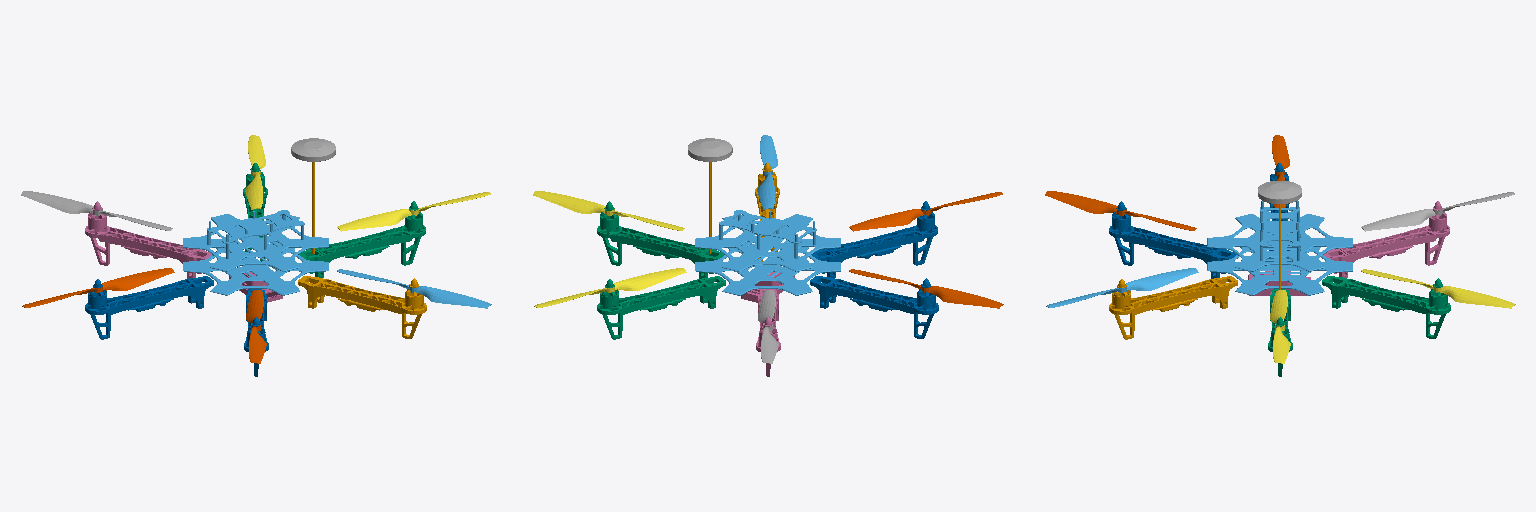
The robot description file, URDF, robot "F550":
<?xml version="1.0" ?>
<!-- =================================================================================== -->
<!-- |    This document was autogenerated by xacro from [local-path]/catkin_ws/src/px4_simulation_stack/Tools/sitl_gazebo/models/F550/xacro/F550.xacro | -->
<!-- |    EDITING THIS FILE BY HAND IS NOT RECOMMENDED                                 | -->
<!-- =================================================================================== -->
<robot name="F550" xmlns:xacro="http://www.ros.org/wiki/xacro">
  <link name="base_link"/>
  <joint name="base_joint" type="fixed">
    <origin rpy="0 0 0" xyz="0 0 0"/>
    <parent link="base_link"/>
    <child link="base_link_inertia"/>
  </joint>
  <!-- base_link -->
  <link name="base_link_inertia">
    <inertial>
      <mass value="1.5"/>
      <!-- [kg] -->
      <origin xyz="0 0 0"/>
      <inertia ixx="0.0213982" ixy="0" ixz="0" iyy="0.021956" iyz="0.000340426" izz="0.0398396"/>
    </inertial>
    <visual>
      <origin rpy="0 0 0" xyz="0 0 0"/>
      <geometry>
        <mesh filename="package://F550/meshes/base_link.STL" scale="1 1 1"/>
      </geometry>
    </visual>
    <collision>
      <origin rpy="0 0 0" xyz="0 0 0"/>
      <geometry>
        <cylinder length="0.13" radius="0.295"/>
      </geometry>
    </collision>
  </link>
  <gazebo>
    <plugin filename="libgazebo_multirotor_base_plugin.so" name="rosbag">
      <robotNamespace></robotNamespace>
      <linkName>base_link</linkName>
      <rotorVelocitySlowdownSim>10</rotorVelocitySlowdownSim>
    </plugin>
  </gazebo>
  <gazebo reference="base_link">
    <material>Gazebo/Black</material>
    <collision name="base_link_inertia_collision">
      <surface>
        <contact>
          <ode>
            <min_depth>0.001</min_depth>
            <max_vel>0.0</max_vel>
          </ode>
        </contact>
        <friction>
          <ode/>
        </friction>
      </surface>
    </collision>
  </gazebo>
  <!-- wing joint -->
  <joint name="wing_0_joint" type="fixed">
    <origin rpy="0 0 0" xyz="0.1875 0 -0.0135"/>
    <axis xyz="0 0 0"/>
    <parent link="base_link"/>
    <child link="wing_0"/>
  </joint>
  <!-- wing link -->
  <link name="wing_0">
    <inertial>
      <origin rpy="0 0 0" xyz="0.033233 0.00054387 0.012567"/>
      <mass value="0.11819"/>
      <inertia ixx="2.1906E-05" ixy="7.962E-07" ixz="-6.9968E-05" iyy="0.0002878" iyz="2.0567E-07" izz="0.0002659"/>
    </inertial>
    <visual>
      <geometry>
        <mesh filename="package://F550/meshes/wing.STL" scale="1 1 1"/>
      </geometry>
    </visual>
  </link>
  <gazebo reference="wing_0">
    <material>Gazebo/White</material>
  </gazebo>
  <!-- rotor joint -->
  <joint name="rotor_0_joint" type="continuous">
    <origin rpy="0 0 0" xyz="0.0865 0.0005 0.033"/>
    <axis xyz="0 0 1"/>
    <parent link="wing_0"/>
    <child link="rotor_0"/>
  </joint>
  <!-- rotor link -->
  <link name="rotor_0">
    <inertial>
      <origin rpy="0 0 0" xyz="0 0 0.0078525"/>
      <mass value="0.0091837"/>
      <inertia ixx="3.009E-07" ixy="1.5042E-07" ixz="0" iyy="3.4024E-05" iyz="0" izz="3.4239E-05"/>
    </inertial>
    <visual>
      <geometry>
        <mesh filename="package://F550/meshes/cw_prop.STL" scale="1 1 1"/>
      </geometry>
    </visual>
    <collision>
      <geometry>
        <cylinder length="0.03" radius="0.13"/>
      </geometry>
    </collision>
  </link>
  <gazebo>
    <plugin filename="libgazebo_motor_model.so" name="right_motor_model">
      <robotNamespace></robotNamespace>
      <jointName>rotor_0_joint</jointName>
      <linkName>rotor_0</linkName>
      <turningDirection>cw</turningDirection>
      <timeConstantUp>0.0125</timeConstantUp>
      <timeConstantDown>0.025</timeConstantDown>
      <maxRotVelocity>1500</maxRotVelocity>
      <motorConstant>8.54858e-06</motorConstant>
      <momentConstant>0.06</momentConstant>
      <commandSubTopic>/gazebo/command/motor_speed</commandSubTopic>
      <motorNumber>0</motorNumber>
      <rotorDragCoefficient>0.000806428</rotorDragCoefficient>
      <rollingMomentCoefficient>1e-06</rollingMomentCoefficient>
      <motorSpeedPubTopic>/motor_speed/0</motorSpeedPubTopic>
      <rotorVelocitySlowdownSim>10</rotorVelocitySlowdownSim>
    </plugin>
  </gazebo>
  <gazebo reference="rotor_0">
    <material>Gazebo/Black</material>
  </gazebo>
  <!-- wing joint -->
  <joint name="wing_1_joint" type="fixed">
    <origin rpy="0 0 3.14159265359" xyz="-0.1875 0 -0.0135"/>
    <axis xyz="0 0 0"/>
    <parent link="base_link"/>
    <child link="wing_1"/>
  </joint>
  <!-- wing link -->
  <link name="wing_1">
    <inertial>
      <origin rpy="0 0 0" xyz="0.033233 0.00054387 0.012567"/>
      <mass value="0.11819"/>
      <inertia ixx="2.1906E-05" ixy="7.962E-07" ixz="-6.9968E-05" iyy="0.0002878" iyz="2.0567E-07" izz="0.0002659"/>
    </inertial>
    <visual>
      <geometry>
        <mesh filename="package://F550/meshes/wing.STL" scale="1 1 1"/>
      </geometry>
    </visual>
  </link>
  <gazebo reference="wing_1">
    <material>Gazebo/White</material>
  </gazebo>
  <!-- rotor joint -->
  <joint name="rotor_1_joint" type="continuous">
    <origin rpy="0 0 0" xyz="0.0865 0.0005 0.033"/>
    <axis xyz="0 0 1"/>
    <parent link="wing_1"/>
    <child link="rotor_1"/>
  </joint>
  <!-- rotor link -->
  <link name="rotor_1">
    <inertial>
      <origin rpy="0 0 0" xyz="0 0 0.0078525"/>
      <mass value="0.0091837"/>
      <inertia ixx="3.00752E-07" ixy="-1.4455E-07" ixz="0" iyy="3.41061E-05" iyz="0" izz="3.43204E-05"/>
    </inertial>
    <visual>
      <geometry>
        <mesh filename="package://F550/meshes/ccw_prop.STL" scale="1 1 1"/>
      </geometry>
    </visual>
    <collision>
      <geometry>
        <cylinder length="0.03" radius="0.13"/>
      </geometry>
    </collision>
  </link>
  <gazebo>
    <plugin filename="libgazebo_motor_model.so" name="left_motor_model">
      <robotNamespace></robotNamespace>
      <jointName>rotor_1_joint</jointName>
      <linkName>rotor_1</linkName>
      <turningDirection>ccw</turningDirection>
      <timeConstantUp>0.0125</timeConstantUp>
      <timeConstantDown>0.025</timeConstantDown>
      <maxRotVelocity>1500</maxRotVelocity>
      <motorConstant>8.54858e-06</motorConstant>
      <momentConstant>0.06</momentConstant>
      <commandSubTopic>/gazebo/command/motor_speed</commandSubTopic>
      <motorNumber>1</motorNumber>
      <rotorDragCoefficient>0.000806428</rotorDragCoefficient>
      <rollingMomentCoefficient>1e-06</rollingMomentCoefficient>
      <motorSpeedPubTopic>/motor_speed/1</motorSpeedPubTopic>
      <rotorVelocitySlowdownSim>10</rotorVelocitySlowdownSim>
    </plugin>
  </gazebo>
  <gazebo reference="rotor_1">
    <material>Gazebo/Orange</material>
  </gazebo>
  <!-- wing joint -->
  <joint name="wing_2_joint" type="fixed">
    <origin rpy="0 0 2.09439510239" xyz="-0.09375 0.16237976321 -0.0135"/>
    <axis xyz="0 0 0"/>
    <parent link="base_link"/>
    <child link="wing_2"/>
  </joint>
  <!-- wing link -->
  <link name="wing_2">
    <inertial>
      <origin rpy="0 0 0" xyz="0.033233 0.00054387 0.012567"/>
      <mass value="0.11819"/>
      <inertia ixx="2.1906E-05" ixy="7.962E-07" ixz="-6.9968E-05" iyy="0.0002878" iyz="2.0567E-07" izz="0.0002659"/>
    </inertial>
    <visual>
      <geometry>
        <mesh filename="package://F550/meshes/wing.STL" scale="1 1 1"/>
      </geometry>
    </visual>
  </link>
  <gazebo reference="wing_2">
    <material>Gazebo/White</material>
  </gazebo>
  <!-- rotor joint -->
  <joint name="rotor_2_joint" type="continuous">
    <origin rpy="0 0 0" xyz="0.0865 0.0005 0.033"/>
    <axis xyz="0 0 1"/>
    <parent link="wing_2"/>
    <child link="rotor_2"/>
  </joint>
  <!-- rotor link -->
  <link name="rotor_2">
    <inertial>
      <origin rpy="0 0 0" xyz="0 0 0.0078525"/>
      <mass value="0.0091837"/>
      <inertia ixx="3.009E-07" ixy="1.5042E-07" ixz="0" iyy="3.4024E-05" iyz="0" izz="3.4239E-05"/>
    </inertial>
    <visual>
      <geometry>
        <mesh filename="package://F550/meshes/cw_prop.STL" scale="1 1 1"/>
      </geometry>
    </visual>
    <collision>
      <geometry>
        <cylinder length="0.03" radius="0.13"/>
      </geometry>
    </collision>
  </link>
  <gazebo>
    <plugin filename="libgazebo_motor_model.so" name="left_front_motor_model">
      <robotNamespace></robotNamespace>
      <jointName>rotor_2_joint</jointName>
      <linkName>rotor_2</linkName>
      <turningDirection>cw</turningDirection>
      <timeConstantUp>0.0125</timeConstantUp>
      <timeConstantDown>0.025</timeConstantDown>
      <maxRotVelocity>1500</maxRotVelocity>
      <motorConstant>8.54858e-06</motorConstant>
      <momentConstant>0.06</momentConstant>
      <commandSubTopic>/gazebo/command/motor_speed</commandSubTopic>
      <motorNumber>2</motorNumber>
      <rotorDragCoefficient>0.000806428</rotorDragCoefficient>
      <rollingMomentCoefficient>1e-06</rollingMomentCoefficient>
      <motorSpeedPubTopic>/motor_speed/2</motorSpeedPubTopic>
      <rotorVelocitySlowdownSim>10</rotorVelocitySlowdownSim>
    </plugin>
  </gazebo>
  <gazebo reference="rotor_2">
    <material>Gazebo/Black</material>
  </gazebo>
  <!-- wing joint -->
  <joint name="wing_3_joint" type="fixed">
    <origin rpy="0 0 -1.0471975512" xyz="0.09375 -0.16237976321 -0.0135"/>
    <axis xyz="0 0 0"/>
    <parent link="base_link"/>
    <child link="wing_3"/>
  </joint>
  <!-- wing link -->
  <link name="wing_3">
    <inertial>
      <origin rpy="0 0 0" xyz="0.033233 0.00054387 0.012567"/>
      <mass value="0.11819"/>
      <inertia ixx="2.1906E-05" ixy="7.962E-07" ixz="-6.9968E-05" iyy="0.0002878" iyz="2.0567E-07" izz="0.0002659"/>
    </inertial>
    <visual>
      <geometry>
        <mesh filename="package://F550/meshes/wing.STL" scale="1 1 1"/>
      </geometry>
    </visual>
  </link>
  <gazebo reference="wing_3">
    <material>Gazebo/Red</material>
  </gazebo>
  <!-- rotor joint -->
  <joint name="rotor_3_joint" type="continuous">
    <origin rpy="0 0 0" xyz="0.0865 0.0005 0.033"/>
    <axis xyz="0 0 1"/>
    <parent link="wing_3"/>
    <child link="rotor_3"/>
  </joint>
  <!-- rotor link -->
  <link name="rotor_3">
    <inertial>
      <origin rpy="0 0 0" xyz="0 0 0.0078525"/>
      <mass value="0.0091837"/>
      <inertia ixx="3.00752E-07" ixy="-1.4455E-07" ixz="0" iyy="3.41061E-05" iyz="0" izz="3.43204E-05"/>
    </inertial>
    <visual>
      <geometry>
        <mesh filename="package://F550/meshes/ccw_prop.STL" scale="1 1 1"/>
      </geometry>
    </visual>
    <collision>
      <geometry>
        <cylinder length="0.03" radius="0.13"/>
      </geometry>
    </collision>
  </link>
  <gazebo>
    <plugin filename="libgazebo_motor_model.so" name="right_rear_motor_model">
      <robotNamespace></robotNamespace>
      <jointName>rotor_3_joint</jointName>
      <linkName>rotor_3</linkName>
      <turningDirection>ccw</turningDirection>
      <timeConstantUp>0.0125</timeConstantUp>
      <timeConstantDown>0.025</timeConstantDown>
      <maxRotVelocity>1500</maxRotVelocity>
      <motorConstant>8.54858e-06</motorConstant>
      <momentConstant>0.06</momentConstant>
      <commandSubTopic>/gazebo/command/motor_speed</commandSubTopic>
      <motorNumber>3</motorNumber>
      <rotorDragCoefficient>0.000806428</rotorDragCoefficient>
      <rollingMomentCoefficient>1e-06</rollingMomentCoefficient>
      <motorSpeedPubTopic>/motor_speed/3</motorSpeedPubTopic>
      <rotorVelocitySlowdownSim>10</rotorVelocitySlowdownSim>
    </plugin>
  </gazebo>
  <gazebo reference="rotor_3">
    <material>Gazebo/Orange</material>
  </gazebo>
  <!-- wing joint -->
  <joint name="wing_4_joint" type="fixed">
    <origin rpy="0 0 1.0471975512" xyz="0.09375 0.16237976321 -0.0135"/>
    <axis xyz="0 0 0"/>
    <parent link="base_link"/>
    <child link="wing_4"/>
  </joint>
  <!-- wing link -->
  <link name="wing_4">
    <inertial>
      <origin rpy="0 0 0" xyz="0.033233 0.00054387 0.012567"/>
      <mass value="0.11819"/>
      <inertia ixx="2.1906E-05" ixy="7.962E-07" ixz="-6.9968E-05" iyy="0.0002878" iyz="2.0567E-07" izz="0.0002659"/>
    </inertial>
    <visual>
      <geometry>
        <mesh filename="package://F550/meshes/wing.STL" scale="1 1 1"/>
      </geometry>
    </visual>
  </link>
  <gazebo reference="wing_4">
    <material>Gazebo/White</material>
  </gazebo>
  <!-- rotor joint -->
  <joint name="rotor_4_joint" type="continuous">
    <origin rpy="0 0 0" xyz="0.0865 0.0005 0.033"/>
    <axis xyz="0 0 1"/>
    <parent link="wing_4"/>
    <child link="rotor_4"/>
  </joint>
  <!-- rotor link -->
  <link name="rotor_4">
    <inertial>
      <origin rpy="0 0 0" xyz="0 0 0.0078525"/>
      <mass value="0.0091837"/>
      <inertia ixx="3.00752E-07" ixy="-1.4455E-07" ixz="0" iyy="3.41061E-05" iyz="0" izz="3.43204E-05"/>
    </inertial>
    <visual>
      <geometry>
        <mesh filename="package://F550/meshes/ccw_prop.STL" scale="1 1 1"/>
      </geometry>
    </visual>
    <collision>
      <geometry>
        <cylinder length="0.03" radius="0.13"/>
      </geometry>
    </collision>
  </link>
  <gazebo>
    <plugin filename="libgazebo_motor_model.so" name="right_front_motor_model">
      <robotNamespace></robotNamespace>
      <jointName>rotor_4_joint</jointName>
      <linkName>rotor_4</linkName>
      <turningDirection>ccw</turningDirection>
      <timeConstantUp>0.0125</timeConstantUp>
      <timeConstantDown>0.025</timeConstantDown>
      <maxRotVelocity>1500</maxRotVelocity>
      <motorConstant>8.54858e-06</motorConstant>
      <momentConstant>0.06</momentConstant>
      <commandSubTopic>/gazebo/command/motor_speed</commandSubTopic>
      <motorNumber>4</motorNumber>
      <rotorDragCoefficient>0.000806428</rotorDragCoefficient>
      <rollingMomentCoefficient>1e-06</rollingMomentCoefficient>
      <motorSpeedPubTopic>/motor_speed/4</motorSpeedPubTopic>
      <rotorVelocitySlowdownSim>10</rotorVelocitySlowdownSim>
    </plugin>
  </gazebo>
  <gazebo reference="rotor_4">
    <material>Gazebo/Orange</material>
  </gazebo>
  <!-- wing joint -->
  <joint name="wing_5_joint" type="fixed">
    <origin rpy="0 0 -2.09439510239" xyz="-0.09375 -0.16237976321 -0.0135"/>
    <axis xyz="0 0 0"/>
    <parent link="base_link"/>
    <child link="wing_5"/>
  </joint>
  <!-- wing link -->
  <link name="wing_5">
    <inertial>
      <origin rpy="0 0 0" xyz="0.033233 0.00054387 0.012567"/>
      <mass value="0.11819"/>
      <inertia ixx="2.1906E-05" ixy="7.962E-07" ixz="-6.9968E-05" iyy="0.0002878" iyz="2.0567E-07" izz="0.0002659"/>
    </inertial>
    <visual>
      <geometry>
        <mesh filename="package://F550/meshes/wing.STL" scale="1 1 1"/>
      </geometry>
    </visual>
  </link>
  <gazebo reference="wing_5">
    <material>Gazebo/Red</material>
  </gazebo>
  <!-- rotor joint -->
  <joint name="rotor_5_joint" type="continuous">
    <origin rpy="0 0 0" xyz="0.0865 0.0005 0.033"/>
    <axis xyz="0 0 1"/>
    <parent link="wing_5"/>
    <child link="rotor_5"/>
  </joint>
  <!-- rotor link -->
  <link name="rotor_5">
    <inertial>
      <origin rpy="0 0 0" xyz="0 0 0.0078525"/>
      <mass value="0.0091837"/>
      <inertia ixx="3.009E-07" ixy="1.5042E-07" ixz="0" iyy="3.4024E-05" iyz="0" izz="3.4239E-05"/>
    </inertial>
    <visual>
      <geometry>
        <mesh filename="package://F550/meshes/cw_prop.STL" scale="1 1 1"/>
      </geometry>
    </visual>
    <collision>
      <geometry>
        <cylinder length="0.03" radius="0.13"/>
      </geometry>
    </collision>
  </link>
  <gazebo>
    <plugin filename="libgazebo_motor_model.so" name="left_rear_motor_model">
      <robotNamespace></robotNamespace>
      <jointName>rotor_5_joint</jointName>
      <linkName>rotor_5</linkName>
      <turningDirection>cw</turningDirection>
      <timeConstantUp>0.0125</timeConstantUp>
      <timeConstantDown>0.025</timeConstantDown>
      <maxRotVelocity>1500</maxRotVelocity>
      <motorConstant>8.54858e-06</motorConstant>
      <momentConstant>0.06</momentConstant>
      <commandSubTopic>/gazebo/command/motor_speed</commandSubTopic>
      <motorNumber>5</motorNumber>
      <rotorDragCoefficient>0.000806428</rotorDragCoefficient>
      <rollingMomentCoefficient>1e-06</rollingMomentCoefficient>
      <motorSpeedPubTopic>/motor_speed/5</motorSpeedPubTopic>
      <rotorVelocitySlowdownSim>10</rotorVelocitySlowdownSim>
    </plugin>
  </gazebo>
  <gazebo reference="rotor_5">
    <material>Gazebo/Black</material>
  </gazebo>
  <!-- link -->
  <link name="pixhawk">
    <inertial>
      <origin rpy="0 0 0" xyz="-9.4432E-05 -0.0024647 0.011865"/>
      <mass value="0.074008"/>
      <inertia ixx="3.8099E-06" ixy="6.11E-09" ixz="-7.5702E-08" iyy="3.8198E-06" iyz="2.3562E-07" izz="4.7645E-08"/>
    </inertial>
    <visual>
      <geometry>
        <mesh filename="package://F550/meshes/pixhawk.STL" scale="1 1 1"/>
      </geometry>
    </visual>
  </link>
  <gazebo reference="pixhawk">
    <material>Gazebo/FlatBlack</material>
  </gazebo>
  <!-- joint -->
  <joint name="pixhawk_fix" type="fixed">
    <origin rpy="0 0 0" xyz="0 0 -0.04"/>
    <parent link="base_link"/>
    <child link="pixhawk"/>
    <axis xyz="0 0 0"/>
  </joint>
  <!-- link -->
  <link name="here_gps">
    <inertial>
      <origin rpy="0 0 0" xyz="-1.3121E-06 -6.68E-05 0.0084082"/>
      <mass value="0.11416"/>
      <inertia ixx="2.98678228033835E-05" ixy="-1.04111821878108E-10" ixz="5.05387750838802E-11" iyy="2.97244934804792E-05" iyz="4.77263126398615E-08" izz="5.59519257601009E-05"/>
    </inertial>
    <visual>
      <geometry>
        <mesh filename="package://F550/meshes/here_gps.STL" scale="1 1 1"/>
      </geometry>
    </visual>
  </link>
  <gazebo reference="here_gps">
    <material>Gazebo/DarkGrey</material>
  </gazebo>
  <!-- joint -->
  <joint name="here_gps_fix" type="fixed">
    <origin rpy="0 0 0" xyz="0.1 0 0.16"/>
    <parent link="base_link"/>
    <child link="here_gps"/>
    <axis xyz="0 0 0"/>
  </joint>
  <!-- GPS Holder -->
  <!-- link -->
  <link name="gps_holder">
    <visual>
      <geometry>
        <cylinder length="0.165" radius="0.002"/>
      </geometry>
    </visual>
  </link>
  <gazebo reference="gps_holder">
    <material>Gazebo/DarkGrey</material>
  </gazebo>
  <!-- joint -->
  <joint name="gps_holder_fix" type="fixed">
    <origin rpy="0 0 0" xyz="0.1 0 0.08"/>
    <parent link="base_link"/>
    <child link="gps_holder"/>
  </joint>
  <gazebo>
    <plugin filename="libgazebo_gps_plugin.so" name="gps_plugin">
      <robotNamespace></robotNamespace>
      <gpsNoise>true</gpsNoise>
    </plugin>
  </gazebo>
  <gazebo>
    <plugin filename="libgazebo_mavlink_interface.so" name="mavlink_interface">
      <robotNamespace></robotNamespace>
      <imuSubTopic>/imu</imuSubTopic>
      <gpsSubTopic>/gps</gpsSubTopic>
      <mavlink_addr>INADDR_ANY</mavlink_addr>
      <mavlink_udp_port>14560</mavlink_udp_port>
      <serialEnabled>false</serialEnabled>
      <serialDevice>/dev/ttyACM0</serialDevice>
      <baudRate>921600</baudRate>
      <qgc_addr>INADDR_ANY</qgc_addr>
      <qgc_udp_port>14550</qgc_udp_port>
      <hil_mode>false</hil_mode>
      <hil_state_level>false</hil_state_level>
      <vehicle_is_tailsitter>false</vehicle_is_tailsitter>
      <send_odometry>false</send_odometry>
      <motorSpeedCommandPubTopic>/gazebo/command/motor_speed</motorSpeedCommandPubTopic>
      <control_channels>
        <channel name="rotor1">
          <input_index>0</input_index>
          <input_offset>0</input_offset>
          <input_scaling>1000</input_scaling>
          <zero_position_disarmed>0</zero_position_disarmed>
          <zero_position_armed>100</zero_position_armed>
          <joint_control_type>velocity</joint_control_type>
          <joint_name>rotor_0_joint</joint_name>
        </channel>
        <channel name="rotor2">
          <input_index>1</input_index>
          <input_offset>0</input_offset>
          <input_scaling>1000</input_scaling>
          <zero_position_disarmed>0</zero_position_disarmed>
          <zero_position_armed>100</zero_position_armed>
          <joint_control_type>velocity</joint_control_type>
          <joint_name>rotor_1_joint</joint_name>
        </channel>
        <channel name="rotor3">
          <input_index>2</input_index>
          <input_offset>0</input_offset>
          <input_scaling>1000</input_scaling>
          <zero_position_disarmed>0</zero_position_disarmed>
          <zero_position_armed>100</zero_position_armed>
          <joint_control_type>velocity</joint_control_type>
          <joint_name>rotor_2_joint</joint_name>
        </channel>
        <channel name="rotor4">
          <input_index>3</input_index>
          <input_offset>0</input_offset>
          <input_scaling>1000</input_scaling>
          <zero_position_disarmed>0</zero_position_disarmed>
          <zero_position_armed>100</zero_position_armed>
          <joint_control_type>velocity</joint_control_type>
          <joint_name>rotor_3_joint</joint_name>
        </channel>
        <channel name="rotor5">
          <input_index>4</input_index>
          <input_offset>0</input_offset>
          <input_scaling>1000</input_scaling>
          <zero_position_disarmed>0</zero_position_disarmed>
          <zero_position_armed>100</zero_position_armed>
          <joint_control_type>velocity</joint_control_type>
          <joint_name>rotor_4_joint</joint_name>
        </channel>
        <channel name="rotor6">
          <input_index>5</input_index>
          <input_offset>0</input_offset>
          <input_scaling>1000</input_scaling>
          <zero_position_disarmed>0</zero_position_disarmed>
          <zero_position_armed>100</zero_position_armed>
          <joint_control_type>velocity</joint_control_type>
          <joint_name>rotor_5_joint</joint_name>
        </channel>
      </control_channels>
    </plugin>
  </gazebo>
  <static>0</static>
  <!-- IMU Link -->
  <link name="/imu_link">
    <inertial>
      <inertia ixx="1e-05" ixy="0" ixz="0" iyy="1e-05" iyz="0" izz="1e-05"/>
      <mass value="0.015"/>
      <!-- kg -->
      <origin rpy="0 0 0" xyz="0 0 0"/>
    </inertial>
  </link>
  <!-- IMU Joint -->
  <joint name="/imu_joint" type="revolute">
    <origin rpy="0 0 0" xyz="0 0 0"/>
    <parent link="base_link"/>
    <child link="/imu_link"/>
    <limit effort="0" lower="0" upper="0" velocity="0"/>
  </joint>
  <gazebo>
    <plugin filename="libgazebo_imu_plugin.so" name="rotors_gazebo_imu_plugin">
      <!-- See below for the details of parameters:
            https://github.com/ethz-asl/kalibr/wiki/IMU-Noise-Model-and-Intrinsics -->
      <robotNamespace></robotNamespace>
      <linkName>/imu_link</linkName>
      <imuTopic>/imu</imuTopic>
      <gyroscopeNoiseDensity>0.0003394</gyroscopeNoiseDensity>
      <gyroscopeRandomWalk>3.8785e-05</gyroscopeRandomWalk>
      <gyroscopeBiasCorrelationTime>1000.0</gyroscopeBiasCorrelationTime>
      <gyroscopeTurnOnBiasSigma>0.0087</gyroscopeTurnOnBiasSigma>
      <accelerometerNoiseDensity>0.004</accelerometerNoiseDensity>
      <accelerometerRandomWalk>0.006</accelerometerRandomWalk>
      <accelerometerBiasCorrelationTime>300.0</accelerometerBiasCorrelationTime>
      <accelerometerTurnOnBiasSigma>0.196</accelerometerTurnOnBiasSigma>
    </plugin>
  </gazebo>
</robot>

--- What the picture shows (computed from the rendered views, not written in the file) ---
The picture shows the robot from 3 angles, left to right: view 1: azimuth 30°, elevation 25°; view 2: azimuth 150°, elevation 25°; view 3: azimuth 270°, elevation 25°; orthographic projection.
Model F550 with 18 links and 17 joints (1 revolute, 6 continuous, 10 fixed), rooted at base_link, posed every joint at zero.
Links seen in each view (by area): view 1: base_link_inertia, wing_1, wing_3, wing_2, wing_0, rotor_2, rotor_1, rotor_3, rotor_0, rotor_4, rotor_5, here_gps (+1 smaller); view 2: base_link_inertia, wing_4, wing_1, wing_5, wing_0, rotor_0, rotor_4, rotor_1, rotor_5, rotor_3, rotor_2, here_gps (+1 smaller); view 3: base_link_inertia, wing_3, wing_4, wing_5, wing_2, rotor_5, rotor_3, rotor_4, rotor_2, rotor_0, here_gps, rotor_1 (+1 smaller).
Boxes of the visible links, left/top/right/bottom form: base_link_inertia: left=183, top=210, right=328, bottom=295; wing_1: left=85, top=276, right=213, bottom=339; wing_3: left=298, top=276, right=426, bottom=338; wing_2: left=85, top=201, right=211, bottom=278; wing_0: left=299, top=201, right=425, bottom=277; rotor_2: left=21, top=191, right=172, bottom=230; rotor_1: left=22, top=268, right=174, bottom=307; rotor_3: left=337, top=269, right=491, bottom=308; rotor_0: left=337, top=192, right=490, bottom=231; rotor_4: left=245, top=135, right=265, bottom=209; rotor_5: left=246, top=290, right=266, bottom=363; here_gps: left=291, top=138, right=335, bottom=161; base_link_inertia: left=695, top=210, right=840, bottom=295; wing_4: left=597, top=276, right=725, bottom=339; wing_1: left=810, top=276, right=938, bottom=338; wing_5: left=812, top=201, right=937, bottom=277; wing_0: left=597, top=201, right=723, bottom=278; rotor_0: left=533, top=191, right=684, bottom=230; rotor_4: left=534, top=268, right=686, bottom=307; rotor_1: left=849, top=269, right=1003, bottom=308; rotor_5: left=849, top=192, right=1002, bottom=231; rotor_3: left=757, top=135, right=777, bottom=209; rotor_2: left=758, top=290, right=778, bottom=363; here_gps: left=688, top=138, right=732, bottom=161; base_link_inertia: left=1207, top=201, right=1352, bottom=295; wing_3: left=1109, top=276, right=1237, bottom=339; wing_4: left=1322, top=276, right=1450, bottom=338; wing_5: left=1109, top=201, right=1236, bottom=278; wing_2: left=1324, top=201, right=1449, bottom=277; rotor_5: left=1045, top=191, right=1196, bottom=230; rotor_3: left=1046, top=268, right=1198, bottom=307; rotor_4: left=1361, top=269, right=1515, bottom=308; rotor_2: left=1361, top=192, right=1514, bottom=231; rotor_0: left=1270, top=290, right=1290, bottom=363; here_gps: left=1258, top=181, right=1301, bottom=203; rotor_1: left=1272, top=135, right=1289, bottom=207.
Bounding box of the posed robot: 0.808 × 0.7064 × 0.2355 m (x, y, z).
Meshes: 6 distinct files referenced, 15 mesh visuals loaded (6 binary STL).